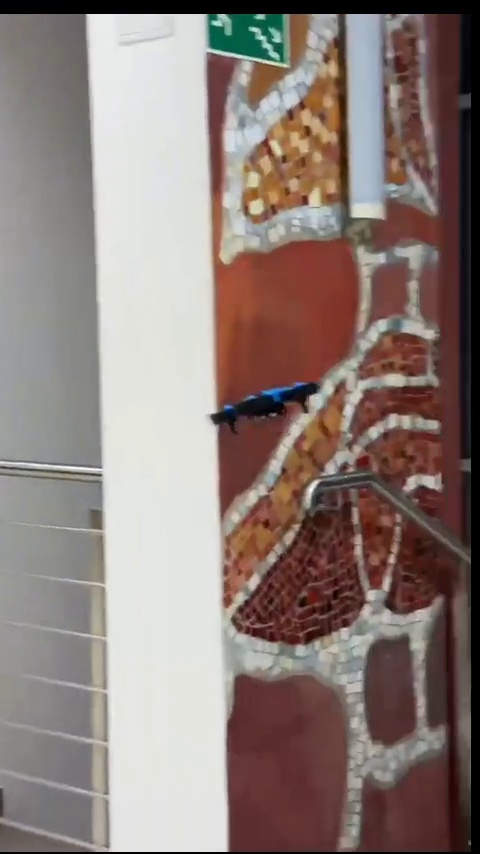drone: (213, 381, 324, 430)
